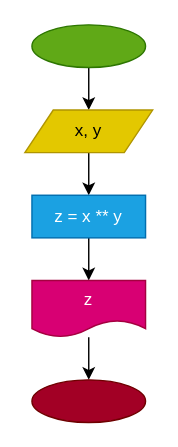
Some shapes in this 178 by 447 pixel diagram are drawn without their labels. Here are the shapes that lost their labels. From the top down, the centre of each, then its label:
[88,45]: INICIO
[88,400]: FIN
